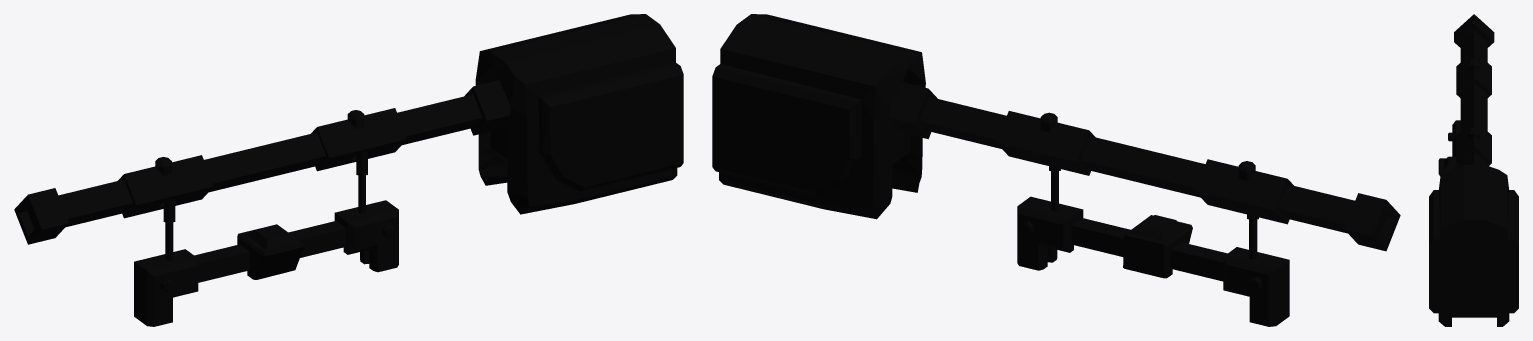
The model's file is cyber_SM_Prop_Hologram_Stand_02.gltf.
3 views of the same model, side by side, from view 1: azimuth 30°, elevation 25°; view 2: azimuth 150°, elevation 25°; view 3: azimuth 270°, elevation 25° (orthographic). The views are drawn at different scales.
Parts seen in each view (by area): view 1: SM_Prop_Hologram_Stand_02; view 2: SM_Prop_Hologram_Stand_02; view 3: SM_Prop_Hologram_Stand_02.
Part boxes in pixels (x1=…): SM_Prop_Hologram_Stand_02: x1=14, y1=14, x2=683, y2=326; SM_Prop_Hologram_Stand_02: x1=712, y1=14, x2=1400, y2=326; SM_Prop_Hologram_Stand_02: x1=1429, y1=14, x2=1518, y2=326.
Bounding box in the file's own units: 2.02 × 0.53 × 0.3446.
1 material, 1 textured.
